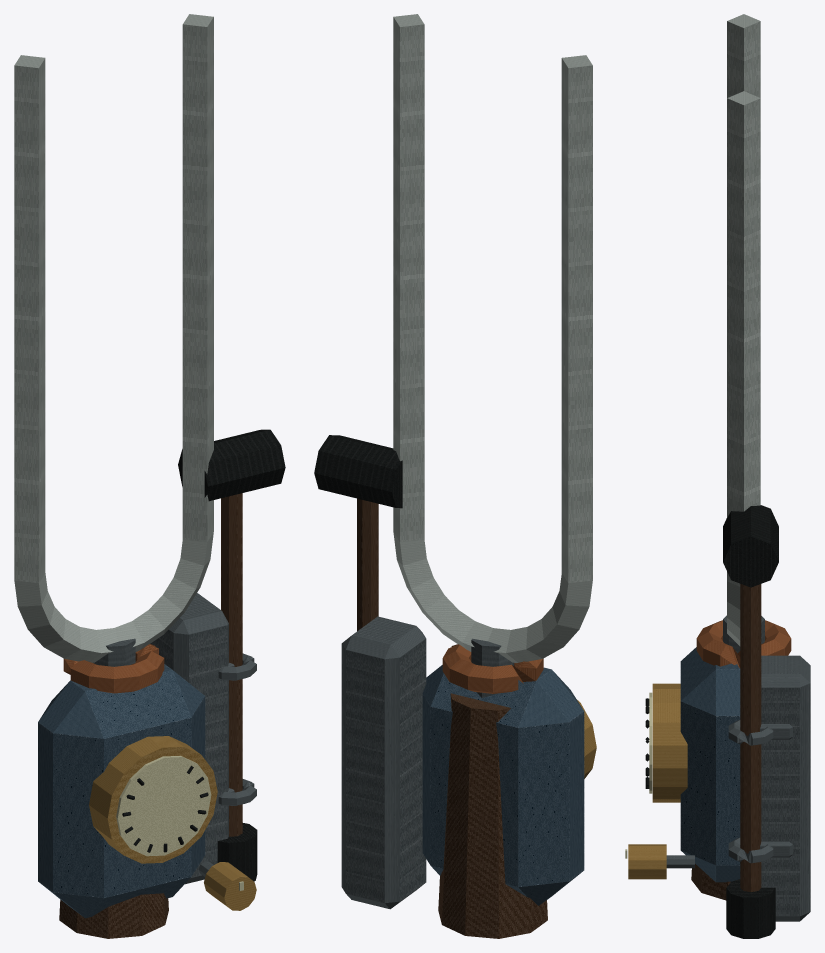
Rendered from blender_resonance_tuner_1.glb.
3 views of the same model, side by side, from view 1: azimuth 30°, elevation 25°; view 2: azimuth 150°, elevation 25°; view 3: azimuth 270°, elevation 25° (orthographic). The views are drawn at different scales.
Parts seen in each view (by area): view 1: blender_resonance_tuner_1; view 2: blender_resonance_tuner_1; view 3: blender_resonance_tuner_1.
Boxes of the visible parts, x1,y1,x2,y2 form: blender_resonance_tuner_1: (14, 14, 285, 938); blender_resonance_tuner_1: (314, 14, 596, 938); blender_resonance_tuner_1: (625, 14, 810, 938).
Size of the model in its own units: 0.0803 by 0.258 by 0.0528.
9 materials, 9 textured.
